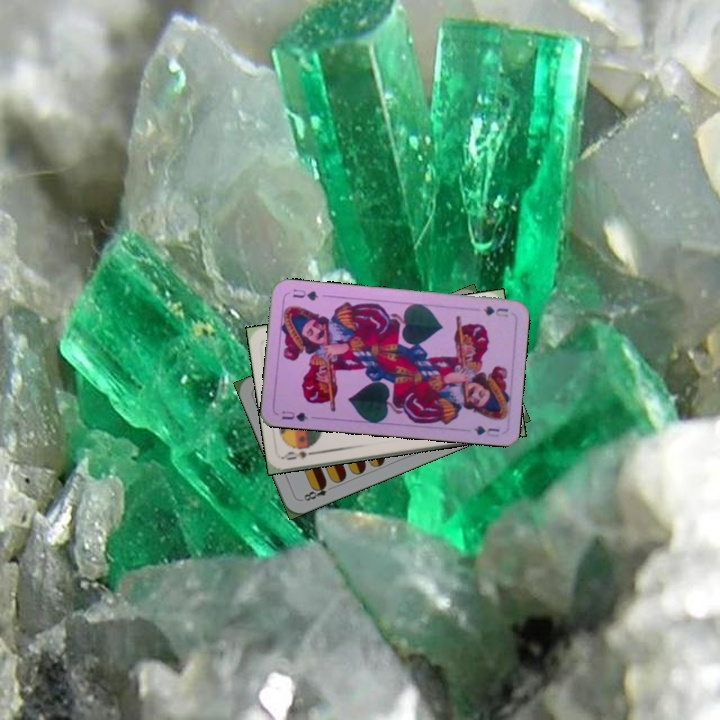E8: (297, 479, 336, 504)
GU: (278, 407, 310, 424), (479, 302, 511, 319)
SO: (280, 447, 321, 462)
